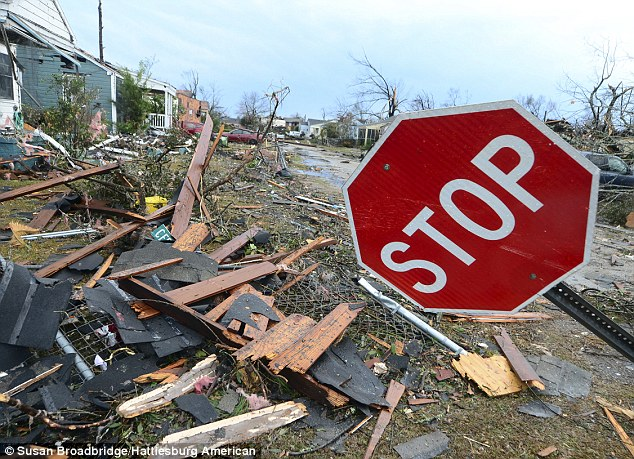stop: (346, 101, 598, 313), (399, 98, 602, 312), (347, 99, 534, 310)
